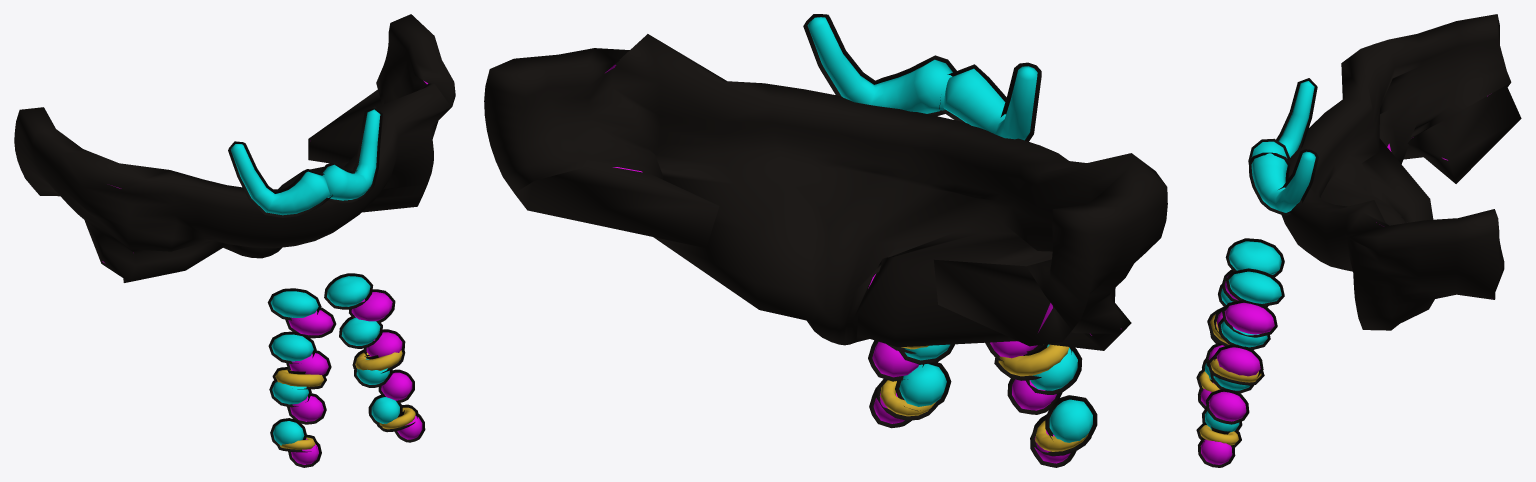
The model's file is beard_forked_female_hi.glb.
3 views of the same model, side by side, from view 1: azimuth 30°, elevation 25°; view 2: azimuth 150°, elevation 25°; view 3: azimuth 270°, elevation 25° (orthographic). The views are drawn at different scales.
Visible parts, largest first — view 1: beard_forked_female_hi; view 2: beard_forked_female_hi; view 3: beard_forked_female_hi.
Part boxes in pixels (<box>): beard_forked_female_hi: <box>14,14,455,467</box>; beard_forked_female_hi: <box>484,14,1167,467</box>; beard_forked_female_hi: <box>1196,14,1521,467</box>.
Bounding box in the file's own units: 0.5607 × 0.3979 × 0.3665.
